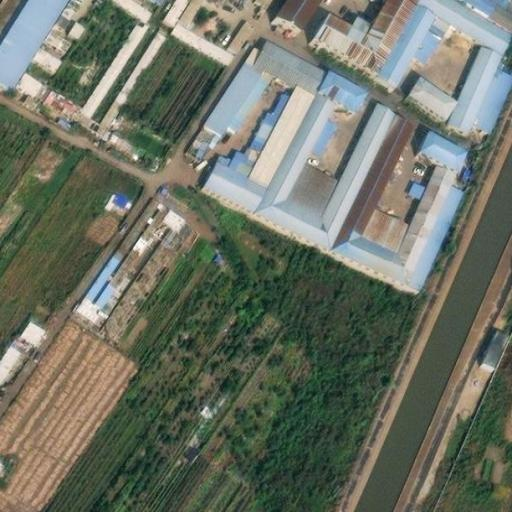building: (256, 65, 395, 241), (333, 106, 466, 282), (75, 179, 203, 335), (189, 34, 327, 152), (203, 81, 314, 206), (97, 24, 165, 125), (82, 16, 143, 106), (169, 16, 234, 59), (471, 58, 512, 123), (419, 122, 472, 165), (411, 7, 450, 59), (412, 71, 459, 111), (475, 324, 509, 371), (277, 0, 315, 23), (17, 311, 46, 340), (104, 186, 132, 213), (61, 16, 84, 40), (175, 0, 200, 22), (120, 0, 154, 15), (164, 0, 185, 18)
